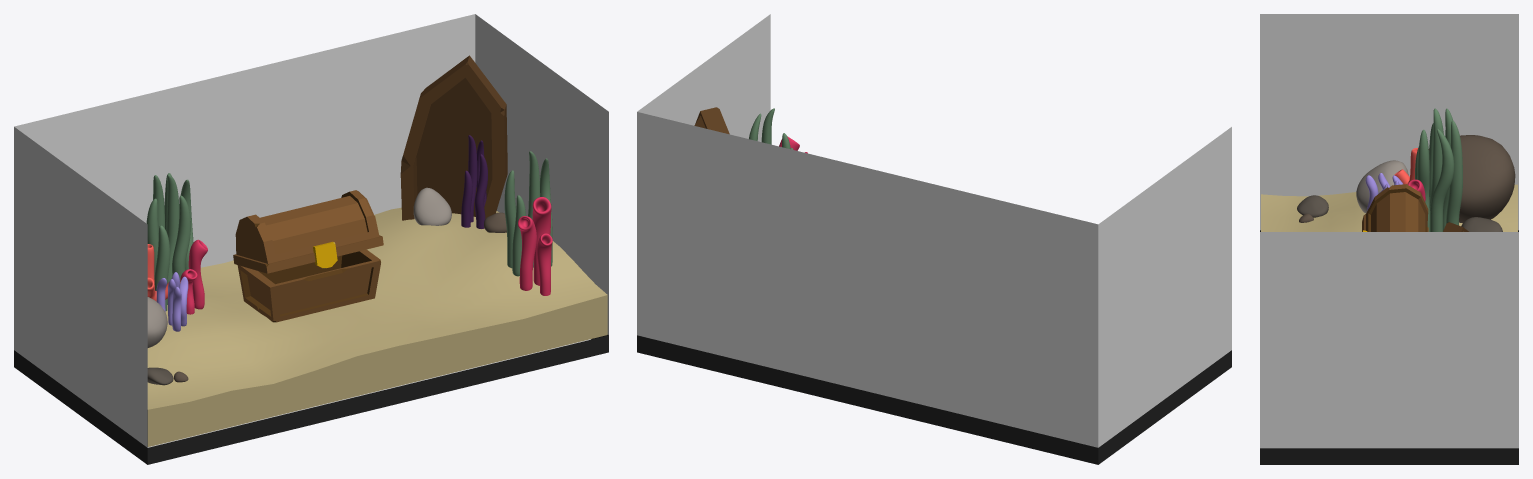
Rendered from Aquarium.fbx.
The picture shows the model from 3 angles, left to right: view 1: azimuth 30°, elevation 25°; view 2: azimuth 150°, elevation 25°; view 3: azimuth 270°, elevation 25°; orthographic projection. The views are drawn at different scales.
Visible parts, largest first — view 1: Tank, Sand, Boat, Chest-Top, Chest-Bottom, Rock-Medium.002, Tube.001, Grass.005, Grass.006, Tube, Grass.011, Rock-Medium.001 (+5 smaller); view 2: Tank; view 3: Tank, Rock-Large, Sand, Chest-Top, Grass.001, Grass.002, Rock-Medium.001, Grass.005, Grass.006, Rock-Medium, Rock-Small.001, Grass (+1 smaller).
Part boxes in pixels (x1,y1,x2,y2): Tank: (14, 14, 608, 464); Sand: (147, 207, 607, 446); Boat: (400, 55, 507, 220); Chest-Top: (233, 190, 383, 273); Chest-Bottom: (237, 249, 380, 322); Rock-Medium.002: (413, 187, 451, 225); Tube.001: (518, 216, 536, 290); Grass.005: (172, 195, 190, 281); Grass.006: (166, 174, 179, 304); Tube: (532, 197, 551, 285); Grass.011: (504, 170, 516, 268); Rock-Medium.001: (147, 297, 167, 347); Tank: (637, 14, 1231, 464); Tank: (1260, 14, 1518, 464); Rock-Large: (1428, 135, 1515, 223); Sand: (1261, 184, 1517, 231); Chest-Top: (1362, 184, 1428, 231); Grass.001: (1430, 128, 1454, 231); Grass.002: (1446, 120, 1462, 225); Rock-Medium.001: (1356, 160, 1408, 213); Grass.005: (1417, 129, 1429, 231); Grass.006: (1429, 108, 1443, 210); Rock-Medium: (1297, 195, 1328, 217); Rock-Small.001: (1461, 217, 1502, 231); Grass: (1443, 108, 1453, 230).
Bounding box in the file's own units: 60.2 × 30 × 30.2.
